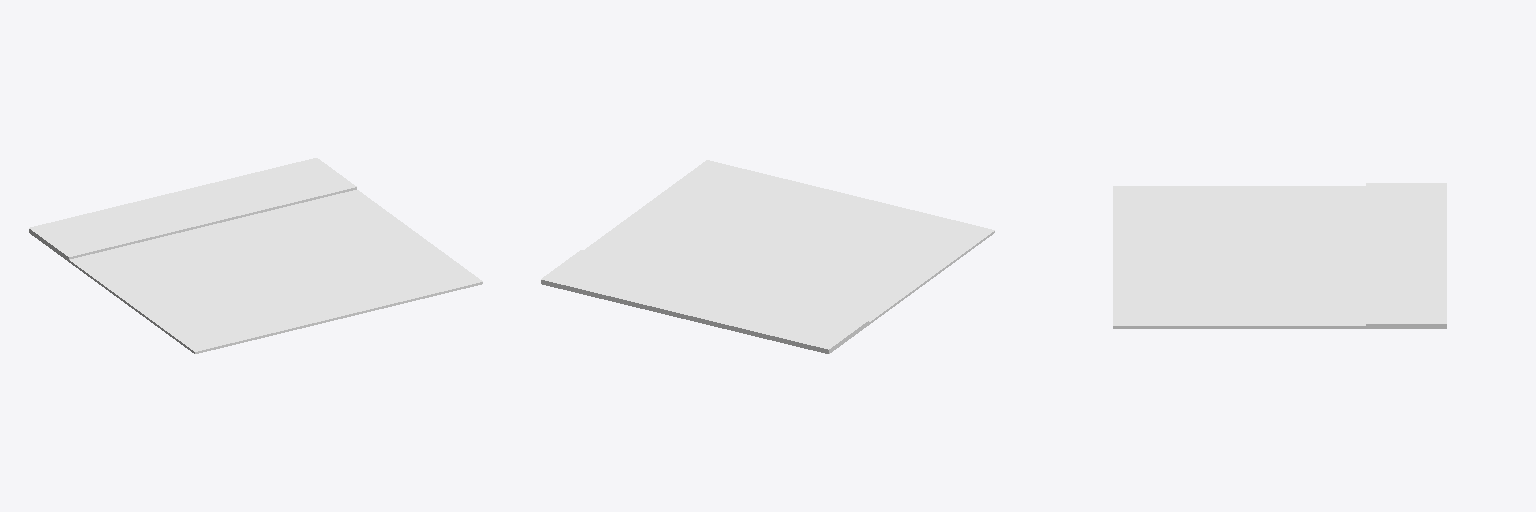
The model's file is GDS2_Floor2-0.obj.
3 renders of one model, left to right at view 1: azimuth 30°, elevation 25°; view 2: azimuth 150°, elevation 25°; view 3: azimuth 270°, elevation 25°, orthographic.
Visible parts, largest first — view 1: GDS2_Floor2-0; view 2: GDS2_Floor2-0; view 3: GDS2_Floor2-0.
Boxes of the visible parts, x1=… form: GDS2_Floor2-0: x1=29, y1=158, x2=482, y2=353; GDS2_Floor2-0: x1=541, y1=160, x2=994, y2=353; GDS2_Floor2-0: x1=1113, y1=183, x2=1446, y2=328.
Size of the model in its own units: 12.8 by 0.2 by 12.8.